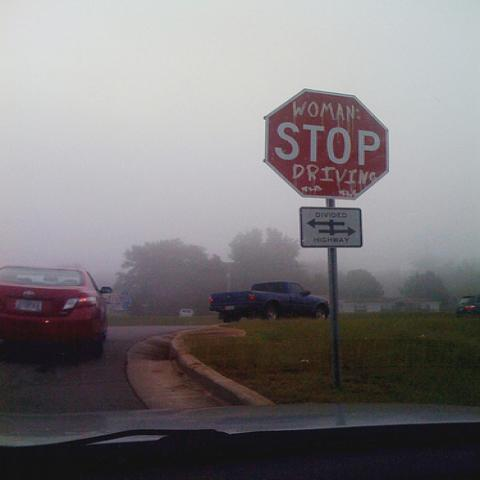car: (3, 268, 112, 359), (452, 294, 480, 318), (179, 308, 193, 317)
truck: (211, 284, 330, 320)
